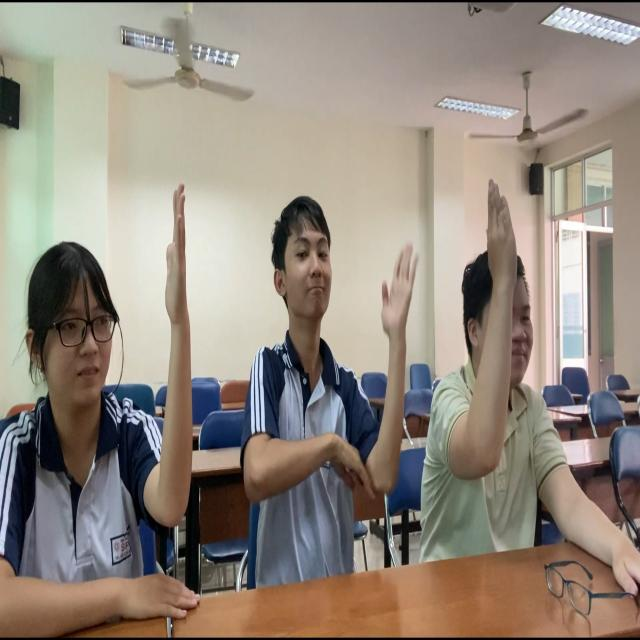raise_hand: (425, 176, 640, 640), (1, 181, 208, 640), (223, 189, 425, 576)
